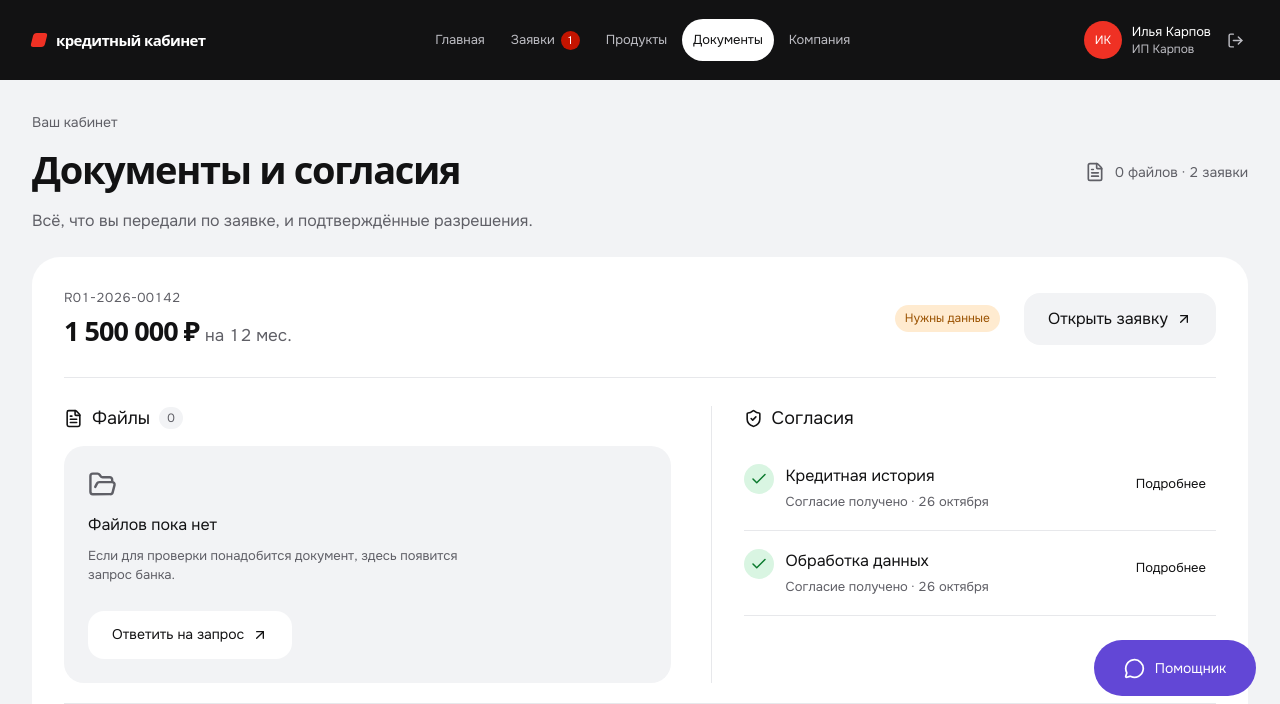
Key screens › shows consent details in a dedicated document layout
Expected: the heading "Документы и согласия" is shown, [32, 147, 533, 193]
Click the button with aria-label "Подробнее: кредитная история".
click(1171, 483)  # box [1126, 464, 1216, 502]
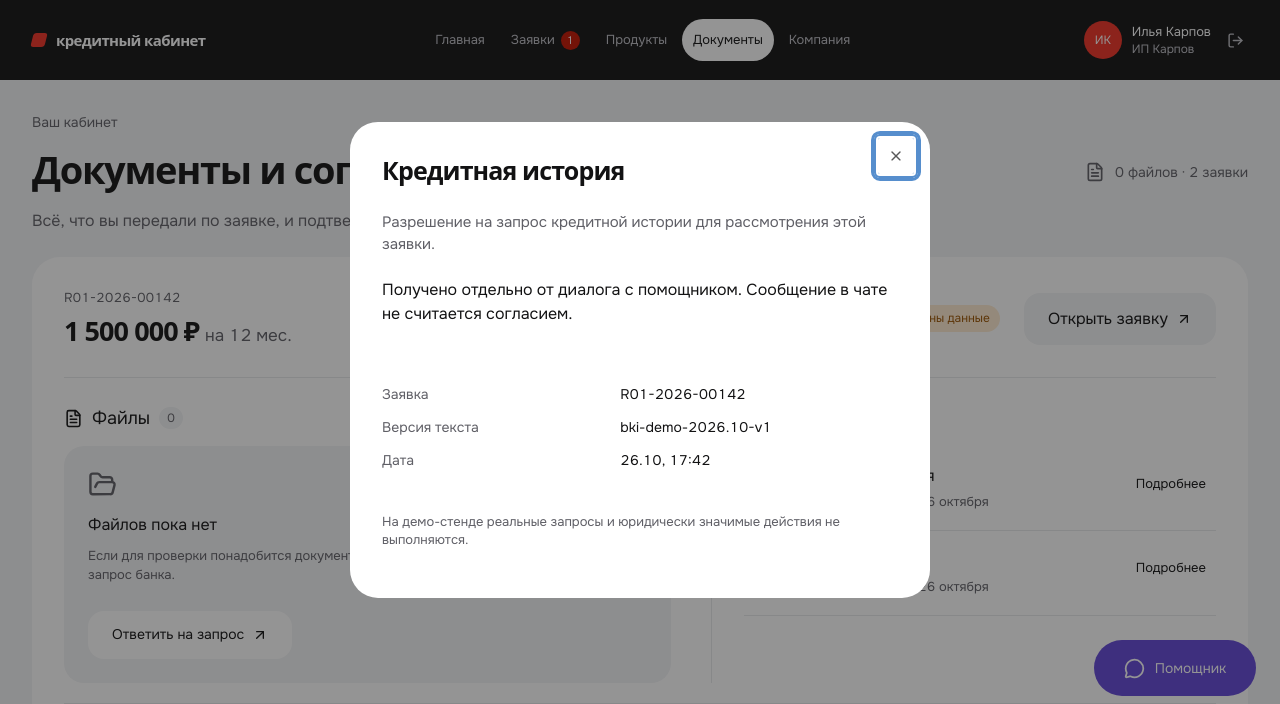
Result: the dialog shows "bki-demo-2026.10-v1" at [620, 417, 772, 435]
